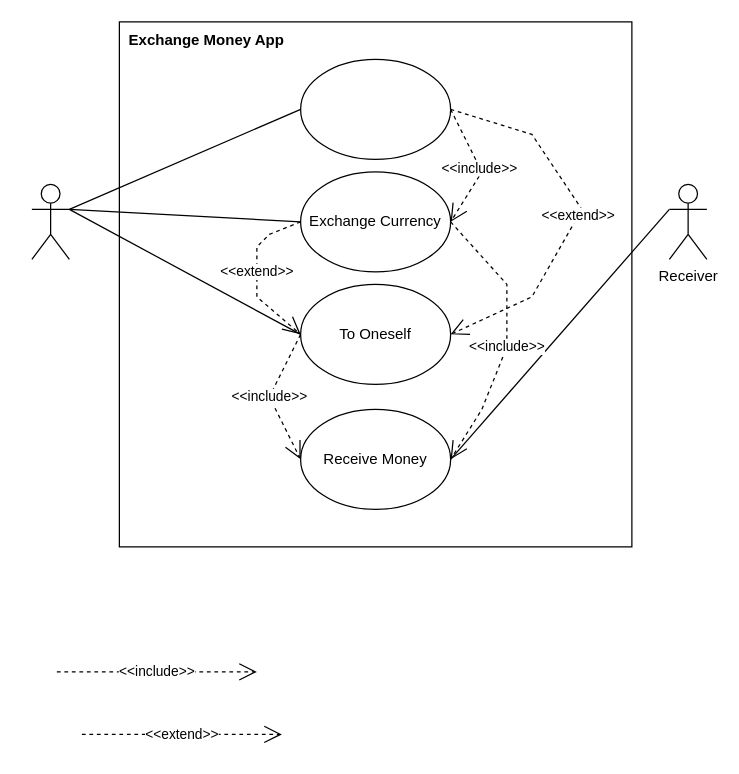
This 739x774 diagram has some shape labels left out. Here are the shapes that lost their labels. From the top down, the centre of each, then its label:
At (375,108): "Send Money".
At (50,221): "User (Sender)".
